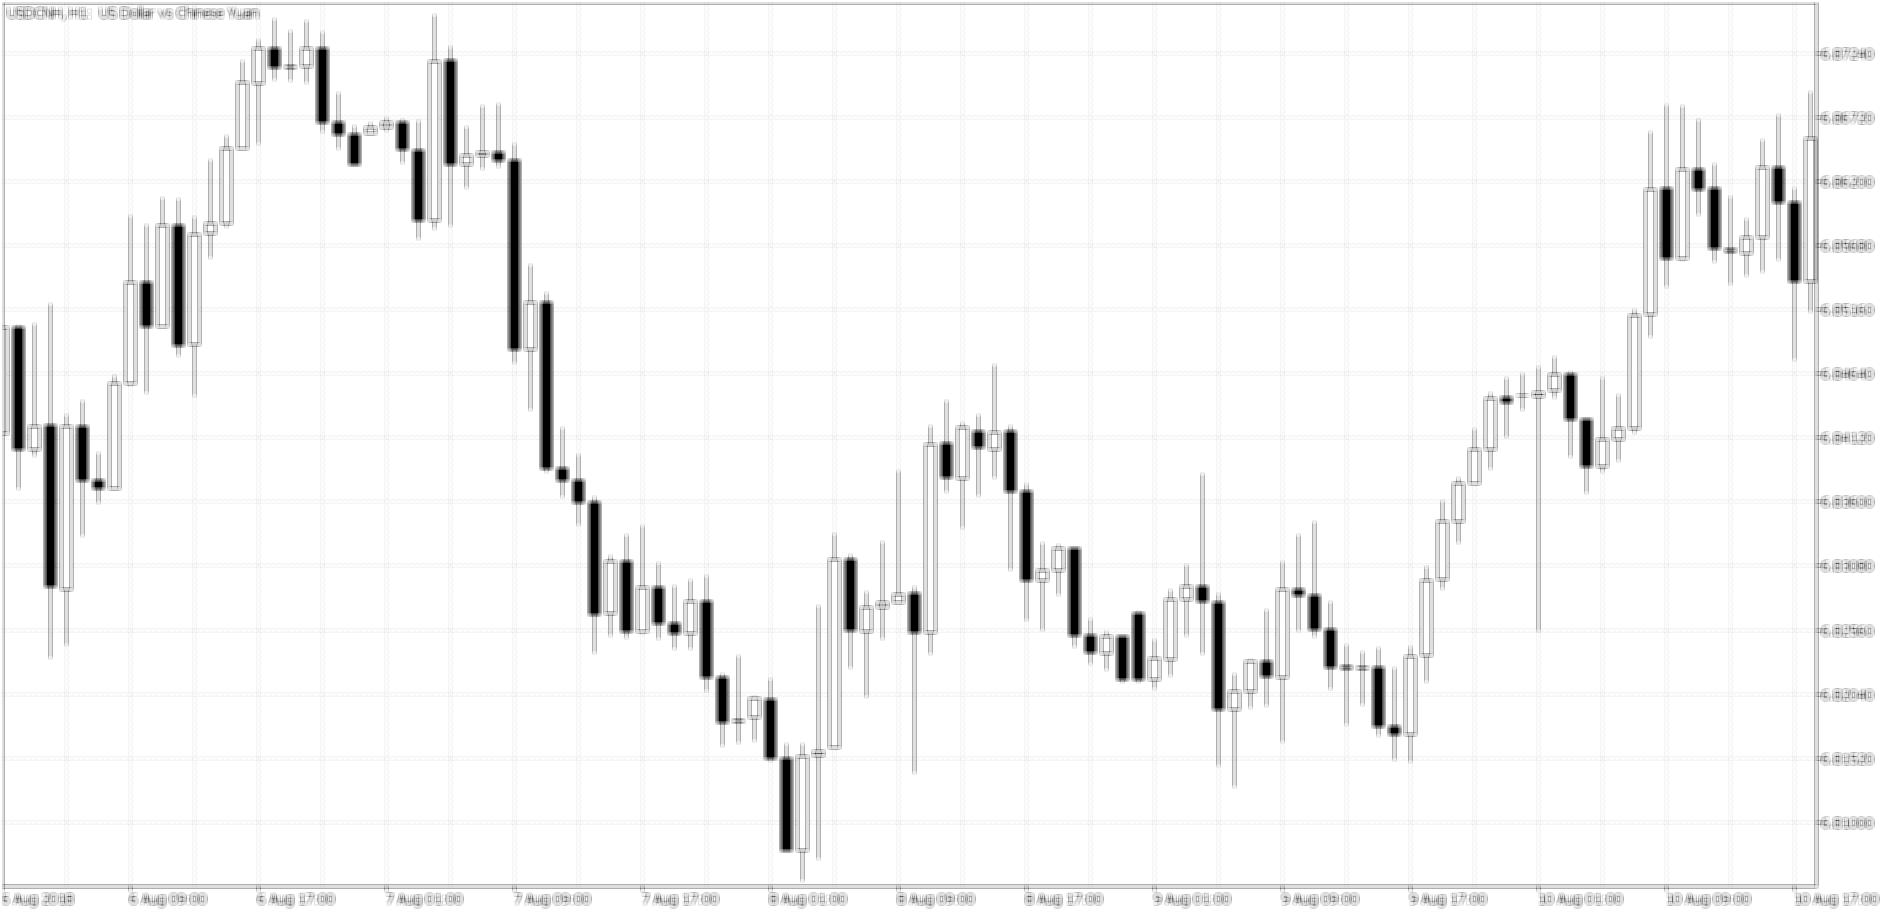3whitesoldiers: (1404, 493, 1449, 779)
eveningStar: (1274, 516, 1340, 713)
morningStar: (1371, 627, 1418, 766)
